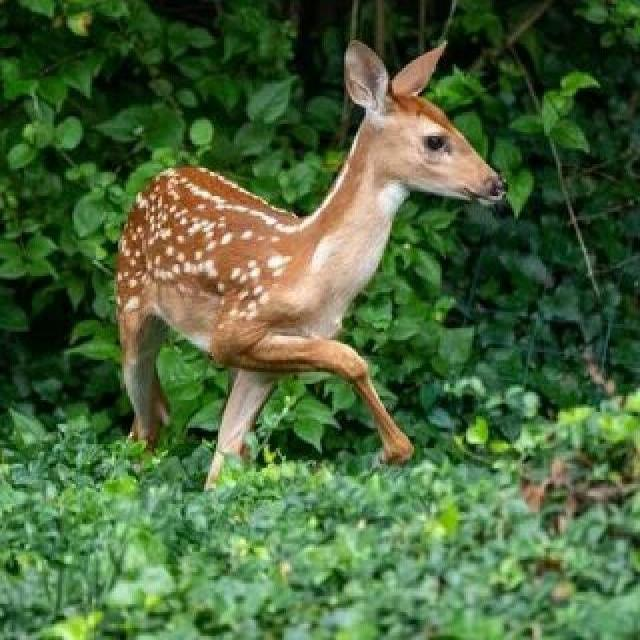deer: (99, 62, 491, 469)
